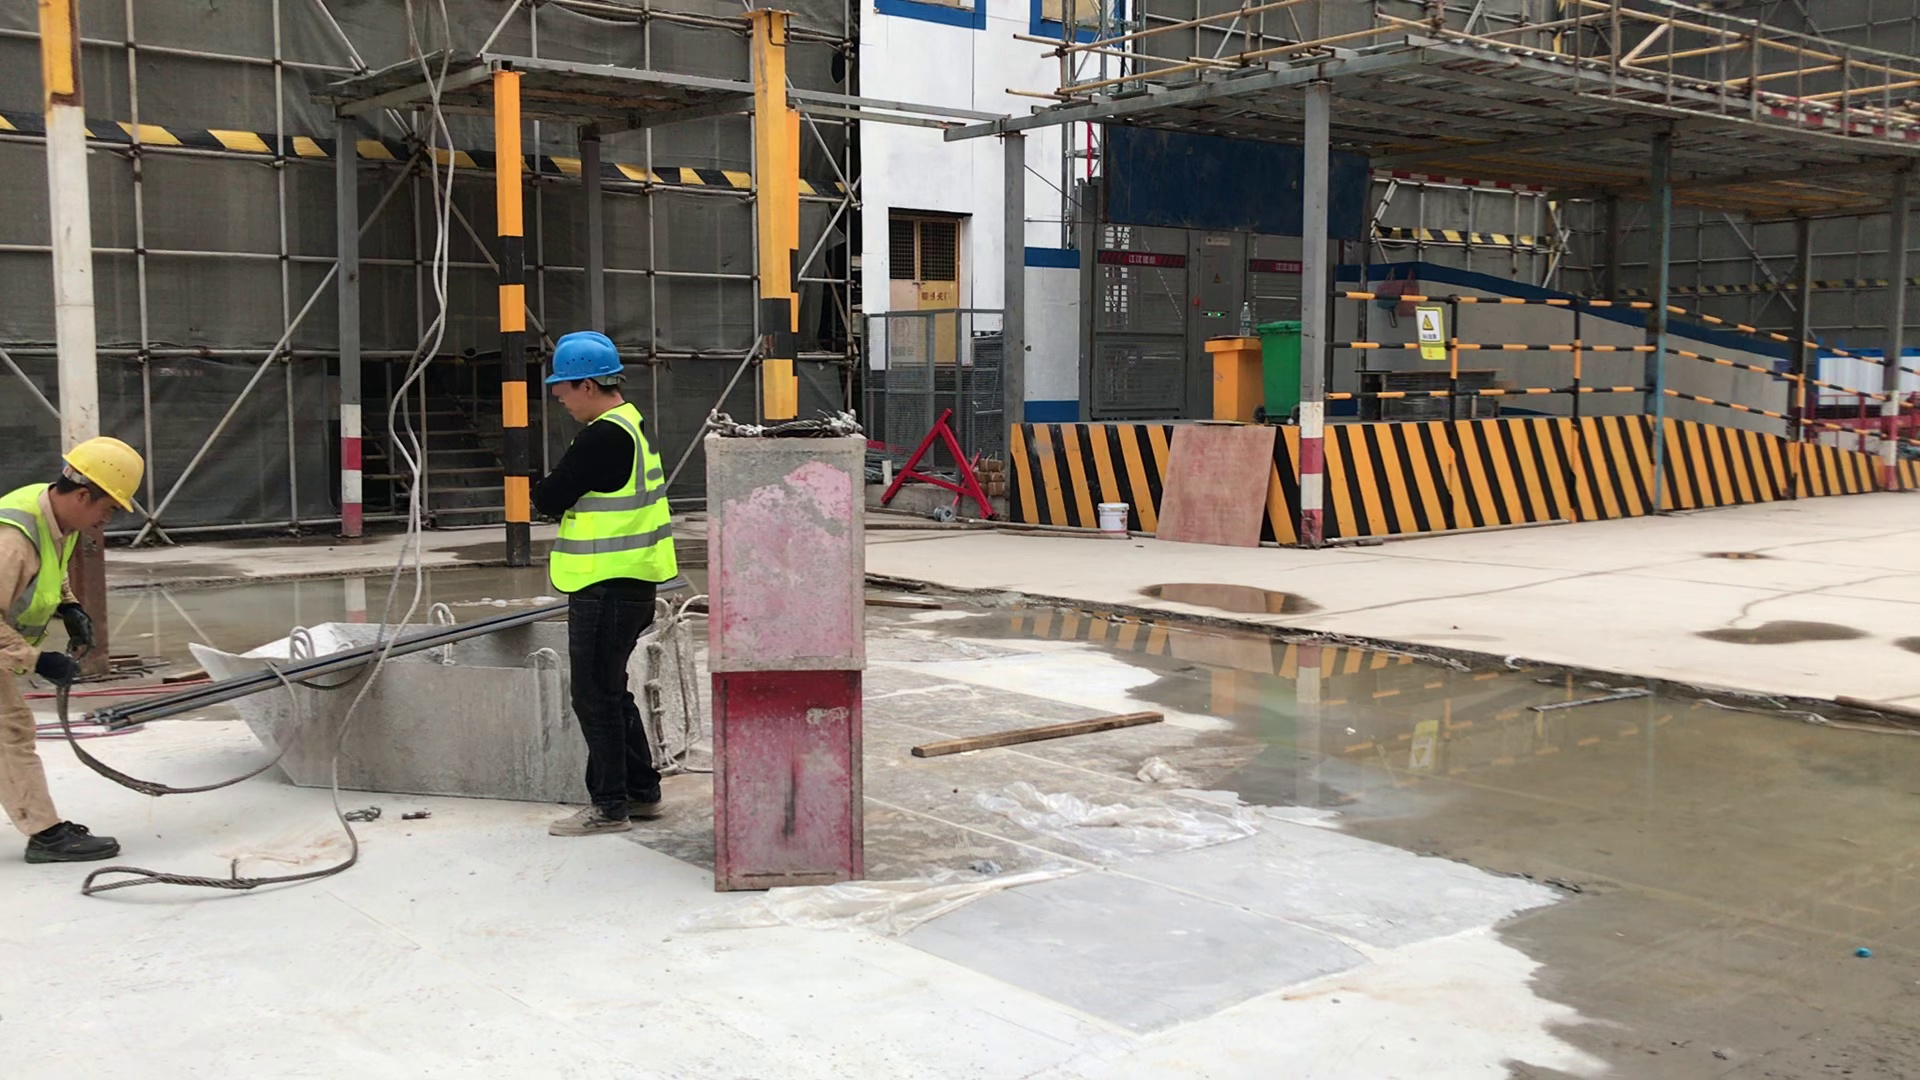fence: (1319, 288, 1920, 455)
helmet: (46, 424, 169, 531), (538, 327, 639, 389)
hopper: (180, 600, 707, 822)
person: (516, 319, 690, 857), (2, 423, 169, 884)
rebar: (83, 605, 571, 727)
slogan: (1403, 299, 1454, 372)
vest: (547, 408, 682, 604), (2, 458, 89, 645)
